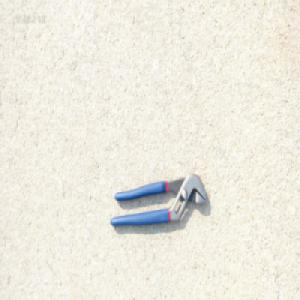Pliers: (109, 169, 210, 225)
